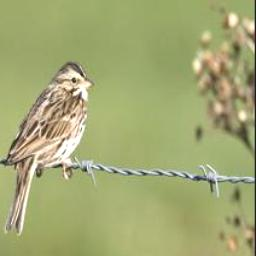Sparrow: (0, 59, 94, 239)
